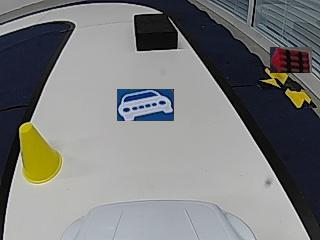block: (134, 13, 177, 50)
cone: (19, 123, 63, 184)
